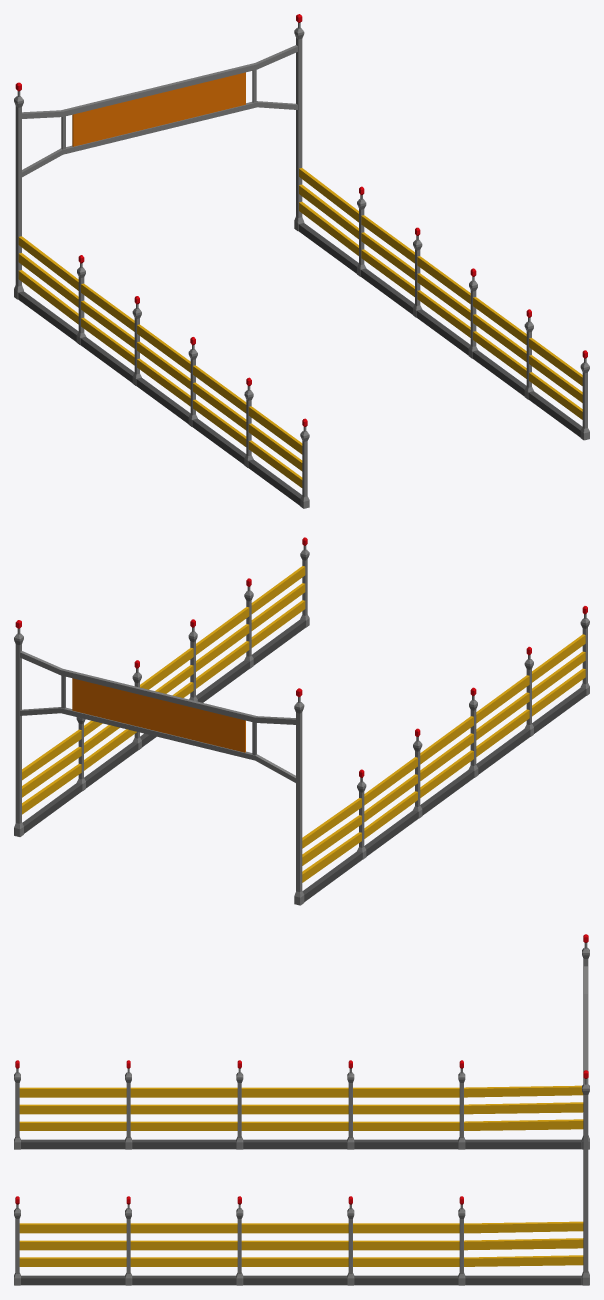
Rendered from Bande1.fbx.
The picture shows the model from 3 angles, top to bottom: view 1: azimuth 30°, elevation 25°; view 2: azimuth 150°, elevation 25°; view 3: azimuth 270°, elevation 25°; orthographic projection.
Parts seen in each view (by area): view 1: Start; view 2: Start; view 3: Start.
Boxes of the visible parts, x1,y1,x2,y2 form: Start: (14, 14, 589, 508); Start: (14, 537, 589, 905); Start: (14, 934, 589, 1285).
Bounding box in the file's own units: 4164 × 2972 × 7286.
